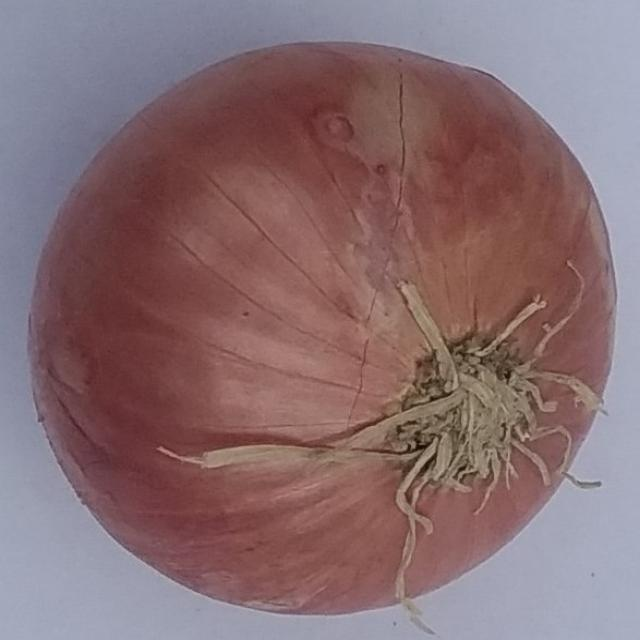onion: (22, 37, 619, 628)
